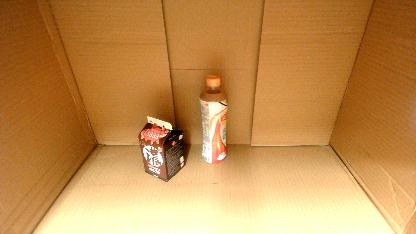Plastic Bottle: (200, 76, 228, 163)
